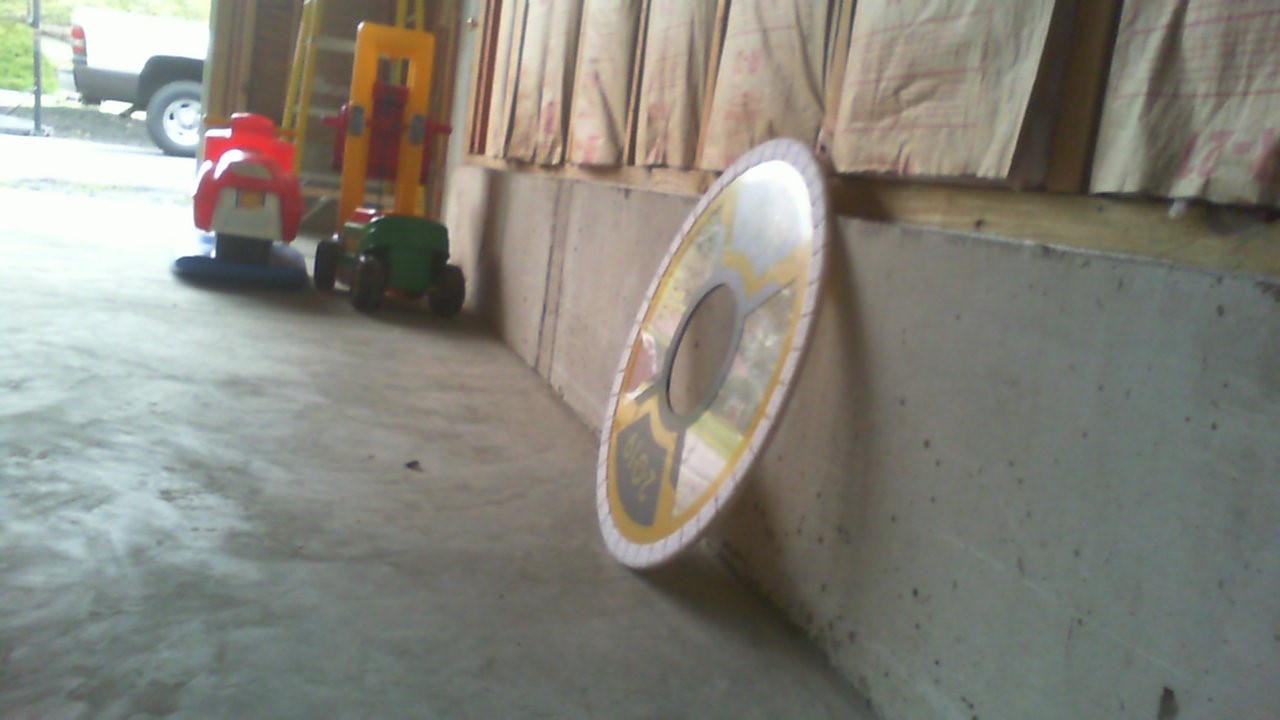Hatch: (594, 137, 828, 568)
